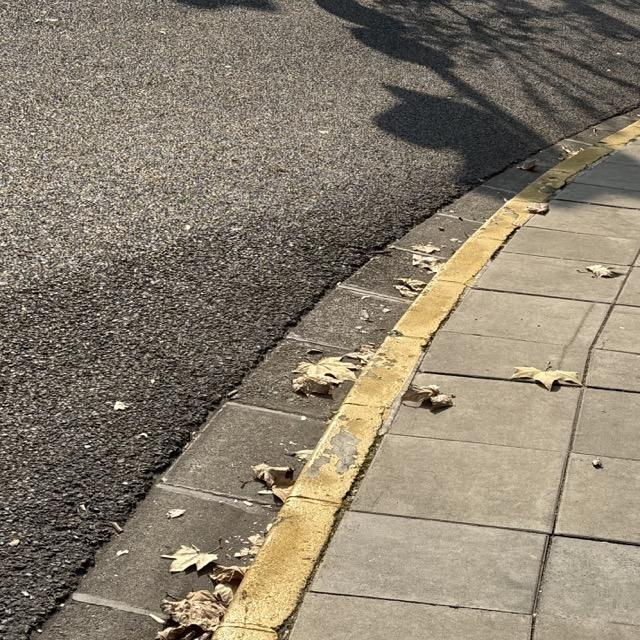curb: (214, 119, 639, 639)
